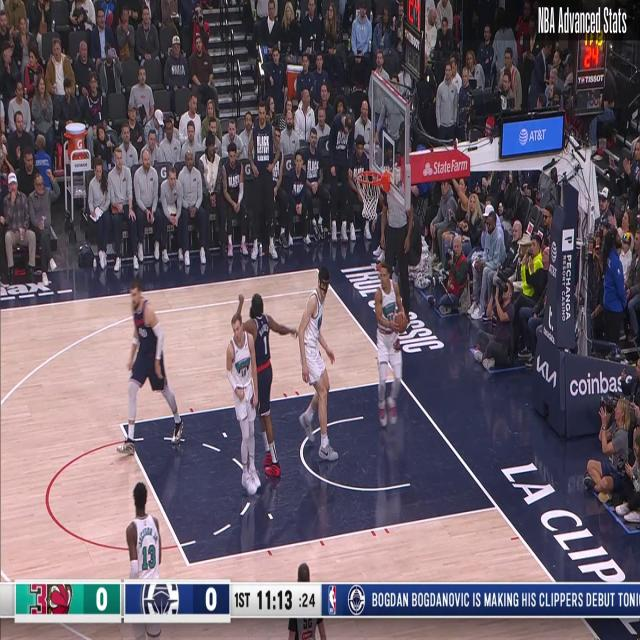ball: (394, 306, 409, 340)
judge: (379, 170, 412, 340), (286, 557, 324, 640)
player: (235, 291, 298, 484), (117, 283, 185, 458), (221, 307, 266, 501), (302, 270, 342, 459), (369, 264, 404, 427), (126, 474, 162, 630)
